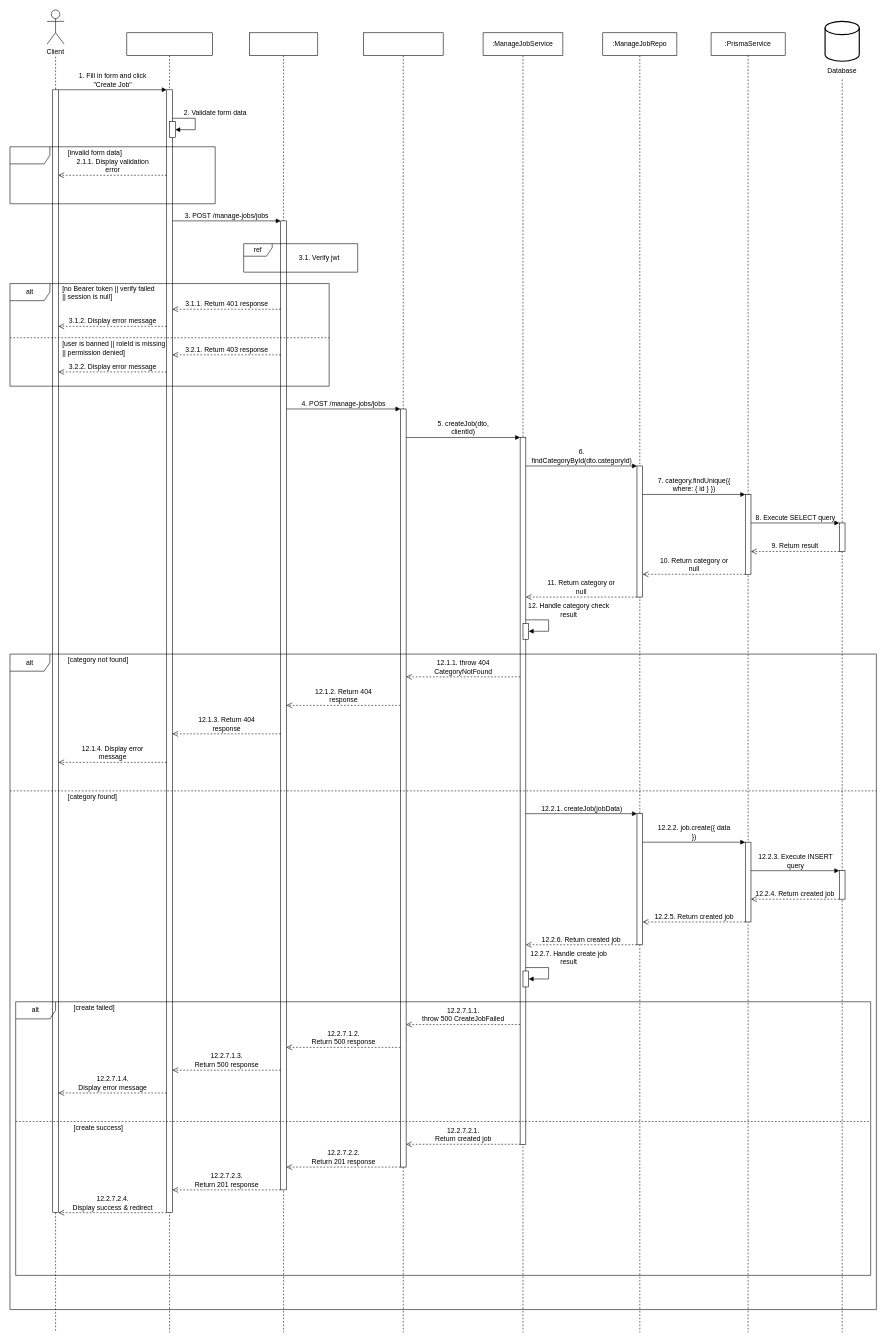
The diagram is 887 pixels wide and 1343 high, and some of its shapes have lost their labels. Each missing label, with the box of its shape:
:CreateJobPage: (126, 32, 212, 1332)
:ManageJobController: (363, 32, 443, 1332)
:ManageJobRoute: (249, 32, 318, 1332)
opt: (9, 146, 215, 204)
